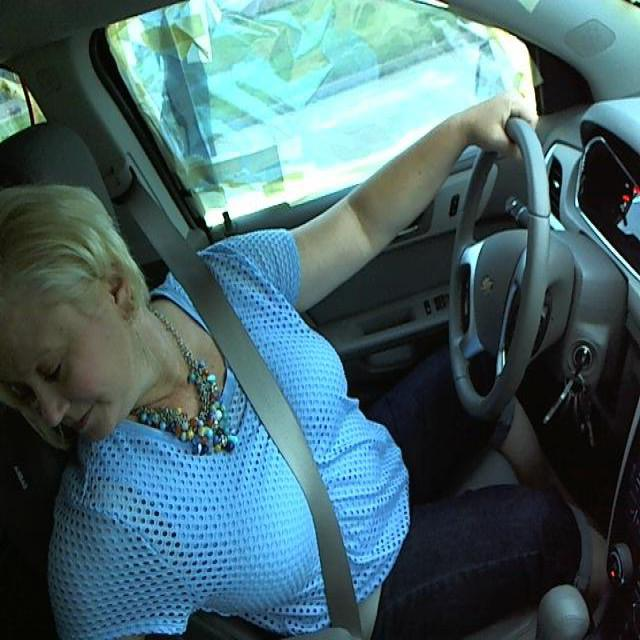seatbelt: (211, 327, 413, 622)
